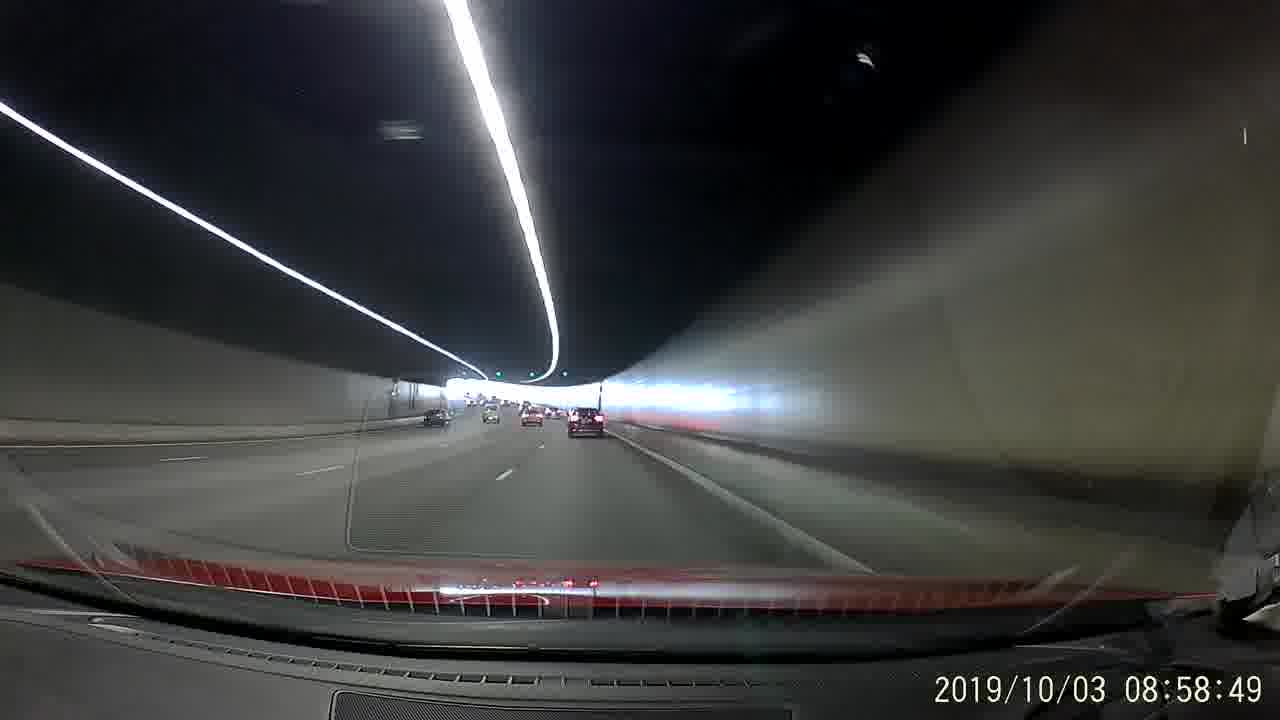car: (566, 407, 606, 441), (421, 407, 452, 432), (519, 406, 545, 430)
